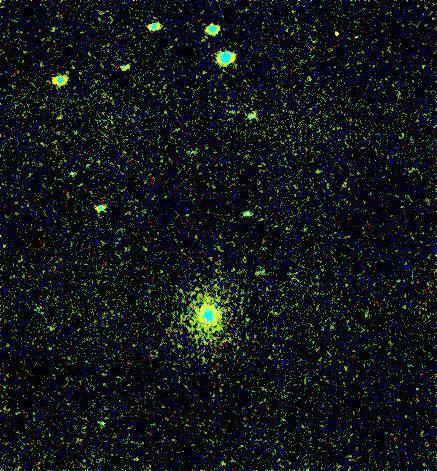star: (88, 409, 118, 439)
